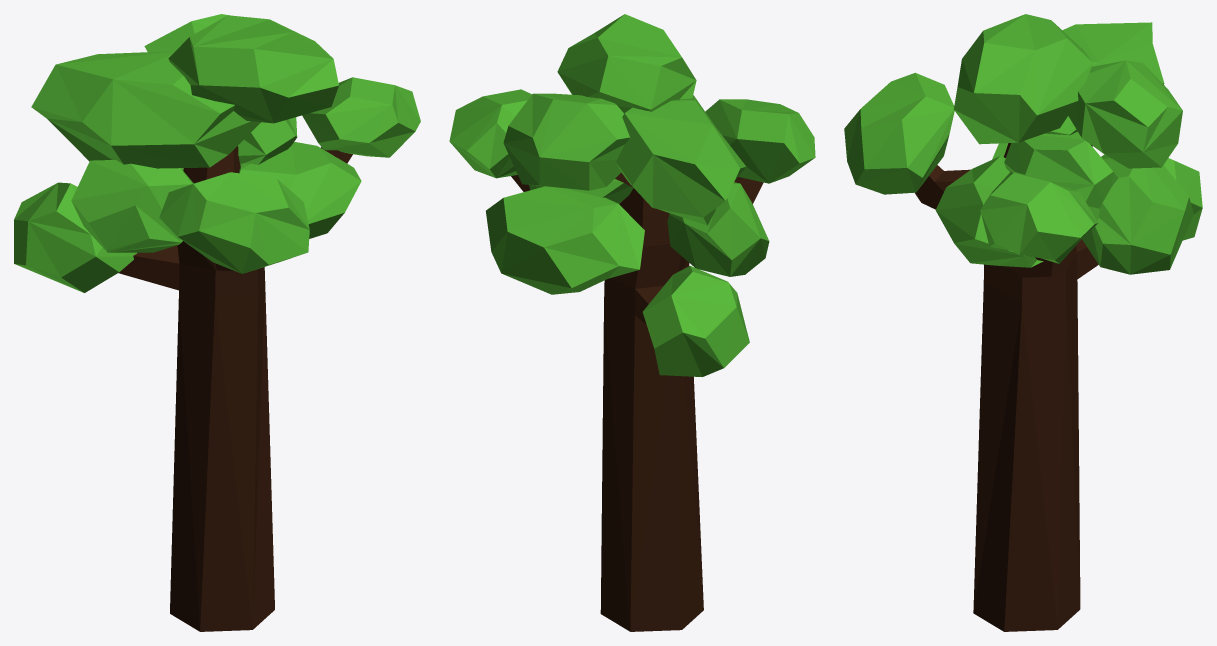
3 views of the same model, side by side, from view 1: azimuth 30°, elevation 25°; view 2: azimuth 150°, elevation 25°; view 3: azimuth 270°, elevation 25° (orthographic). The views are drawn at different scales.
Parts seen in each view (by area): view 1: Cylinder016; view 2: Cylinder016; view 3: Cylinder016.
Boxes of the visible parts, x1,y1,x2,y2 form: Cylinder016: (14, 14, 420, 631); Cylinder016: (449, 14, 815, 631); Cylinder016: (844, 14, 1202, 631).
Bounding box in the file's own units: 6.49 × 10.53 × 5.77.
